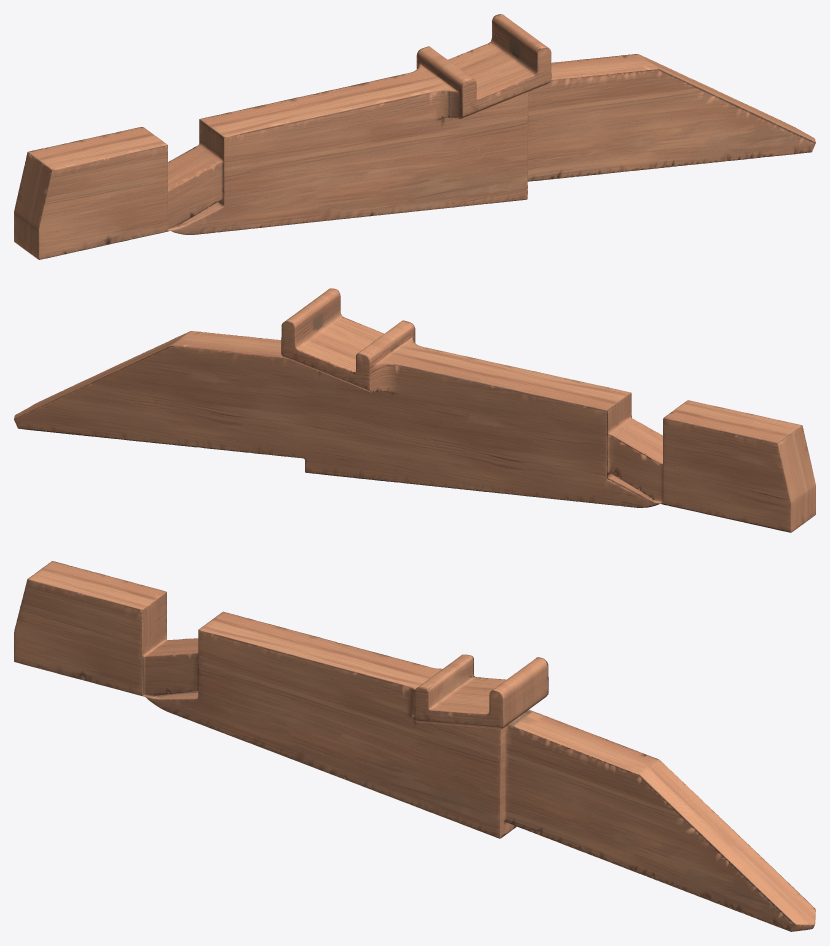
The model's file is 8昂形耍头（批竹式起棱出尖）、齐心斗.glb.
The picture shows the model from 3 angles, top to bottom: view 1: azimuth 30°, elevation 25°; view 2: azimuth 150°, elevation 25°; view 3: azimuth 330°, elevation 25°; orthographic projection.
Bounding box in the file's own units: 1.9 × 0.4274 × 0.1905.
Materials: 1 (1 with a texture image).
